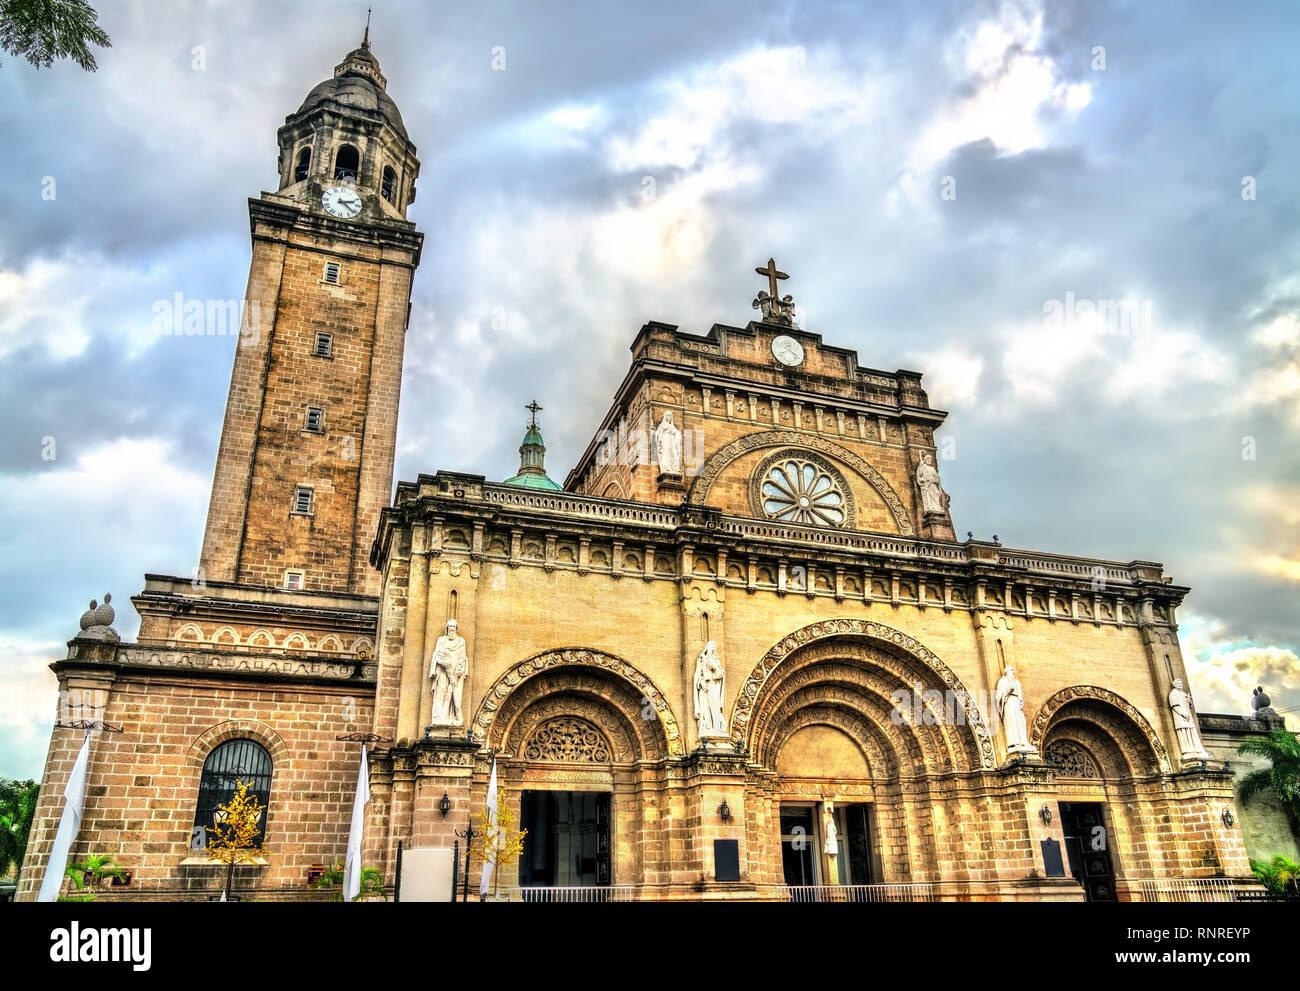manila_cathedral_church_intramuros_manila: (42, 5, 1235, 896)
